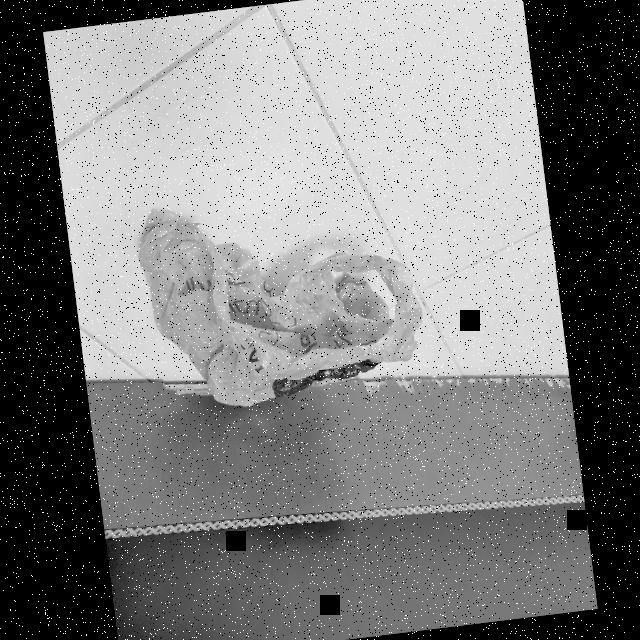plastic_bag: (132, 178, 430, 418)
